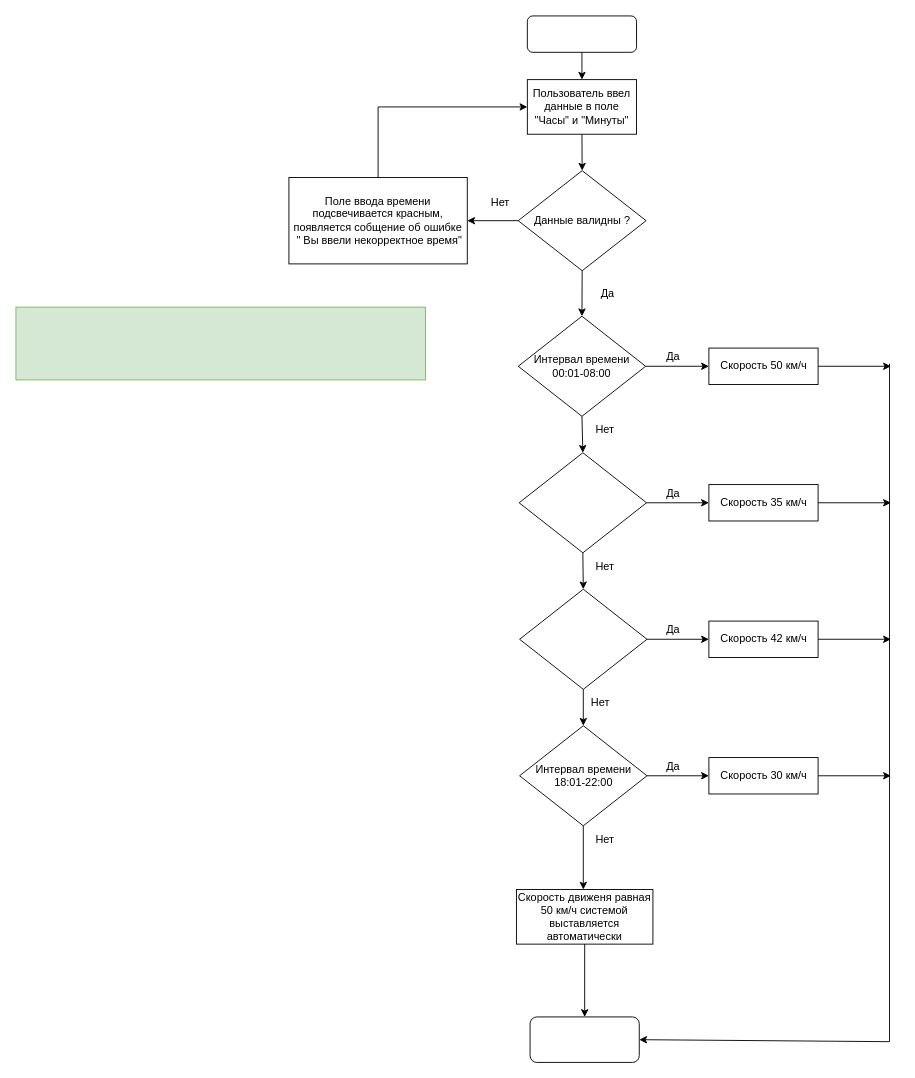
Some shapes in this 915 by 1078 pixel diagram are drawn without their labels. Here are the shapes that lost their labels. From the top down, the box of each, then its label:
(526, 15, 637, 52): Начало
(15, 306, 425, 380): Исправил согласно с замечаниями,удалил временной интервал от 22:01-00:00.
(518, 452, 647, 553): Интервал времени 08:01-12:00
(519, 588, 647, 689): Интервал времени 12:01-18:00
(529, 1016, 639, 1062): Конец
